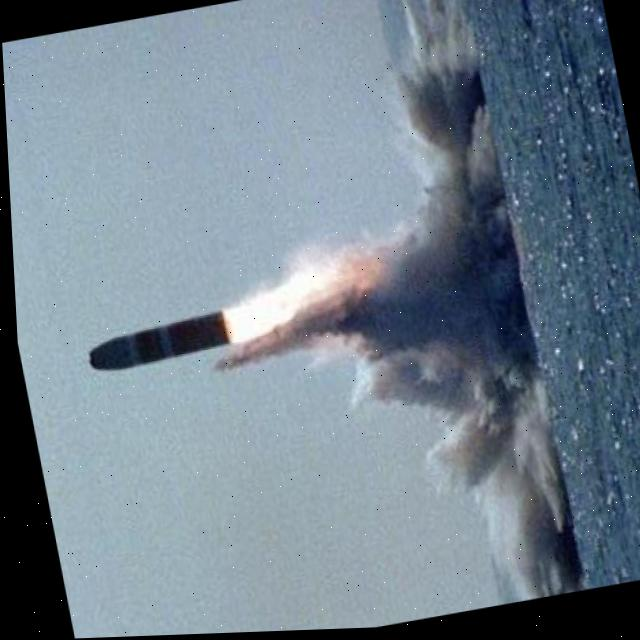missile: (75, 310, 229, 378)
